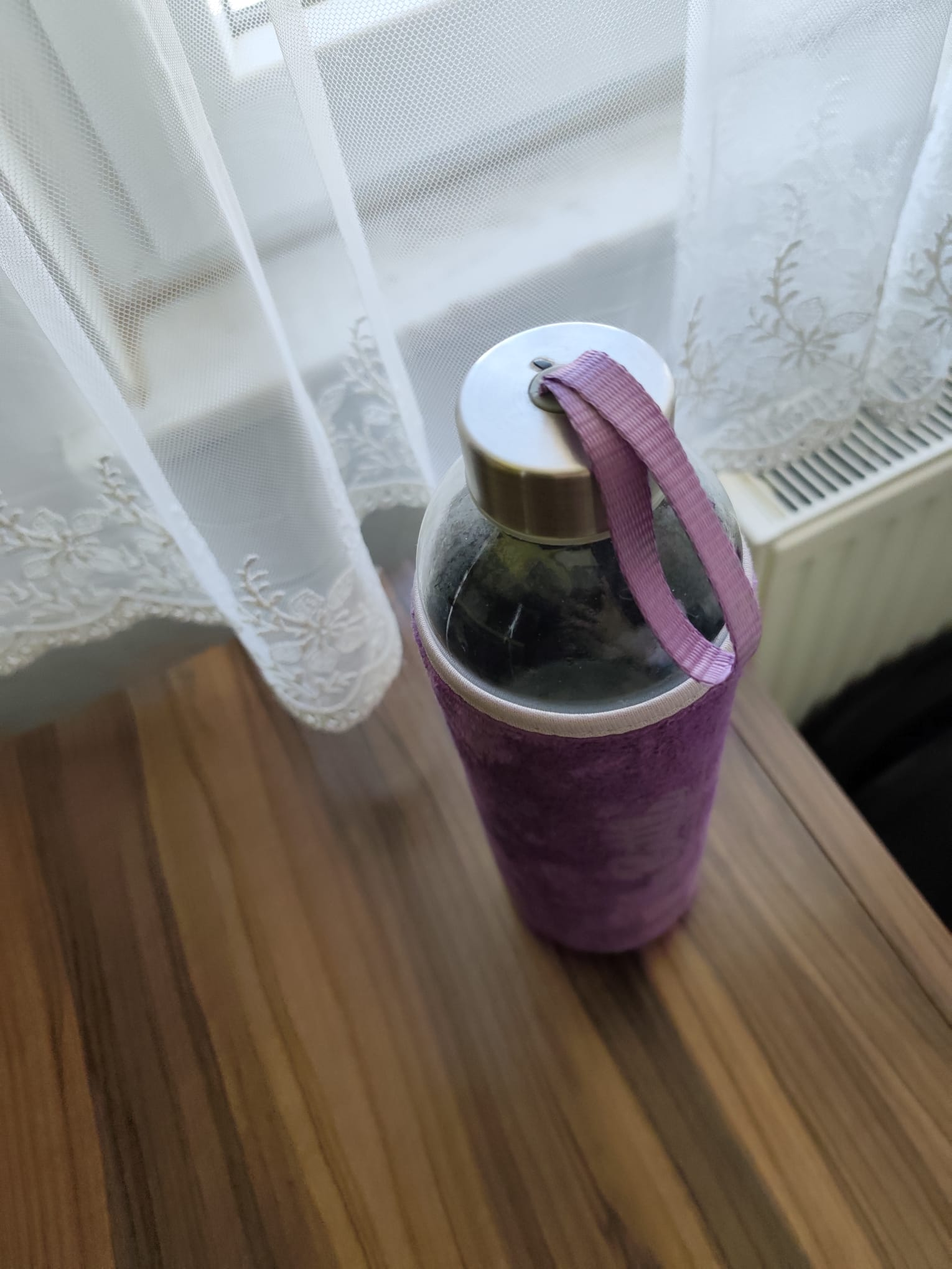su_sisesi: (404, 309, 762, 974)
